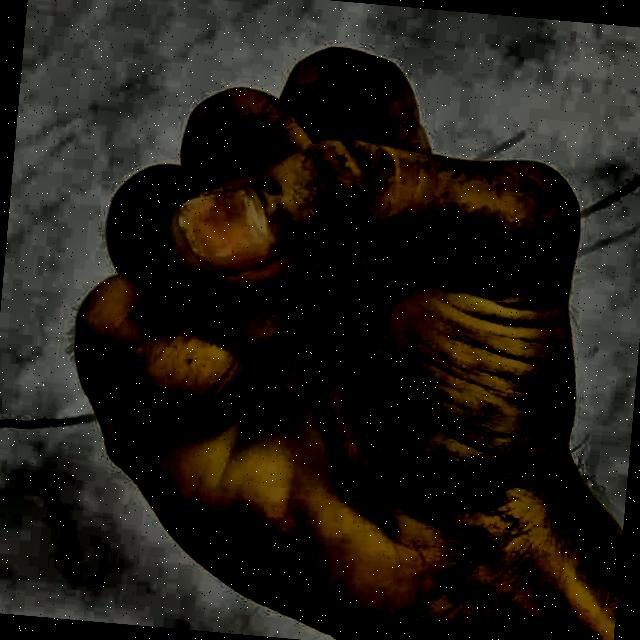Sha: (12, 6, 624, 640)
